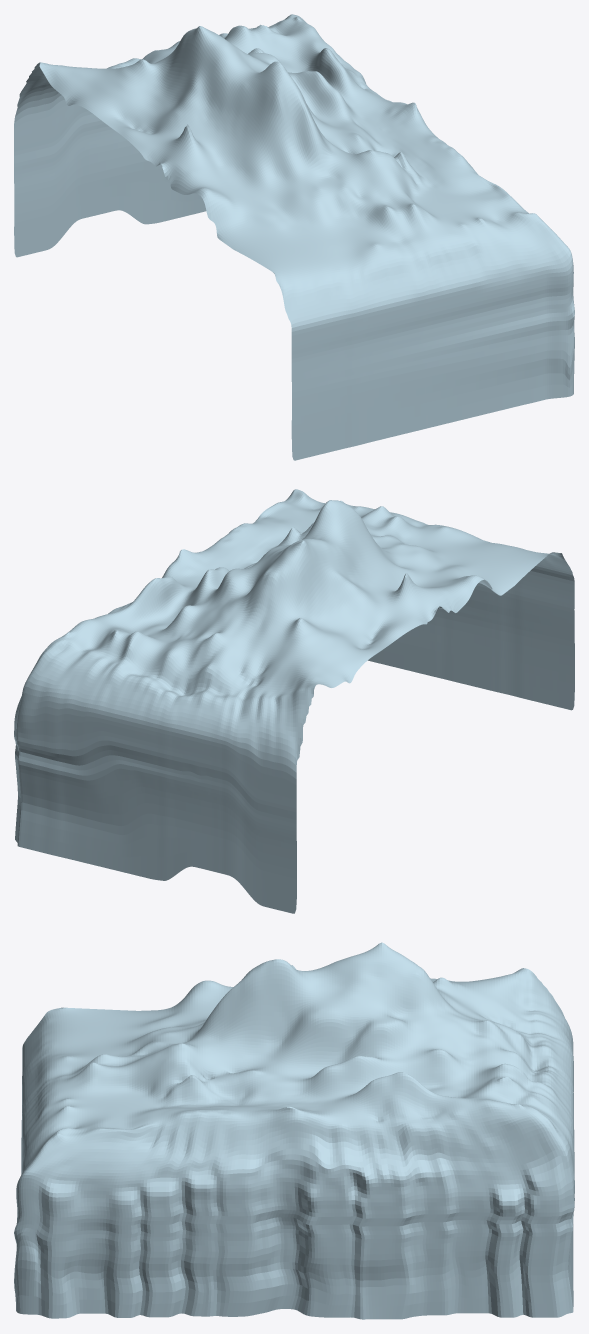
The model's file is ParedGlaciar1.fbx.
The picture shows the model from 3 angles, top to bottom: view 1: azimuth 30°, elevation 25°; view 2: azimuth 150°, elevation 25°; view 3: azimuth 270°, elevation 25°; orthographic projection.
Parts seen in each view (by area): view 1: Plane; view 2: Plane; view 3: Plane.
Boxes of the visible parts, x1,y1,x2,y2 form: Plane: (14, 14, 574, 460); Plane: (14, 489, 574, 913); Plane: (14, 942, 574, 1319).
Size of the model in its own units: 7904 by 7193 by 13116.
